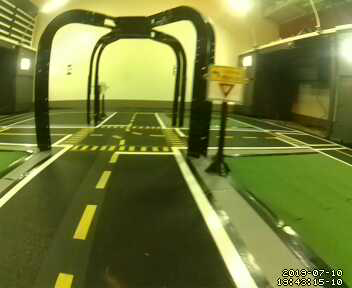Turn Yield: (208, 65, 244, 104)
